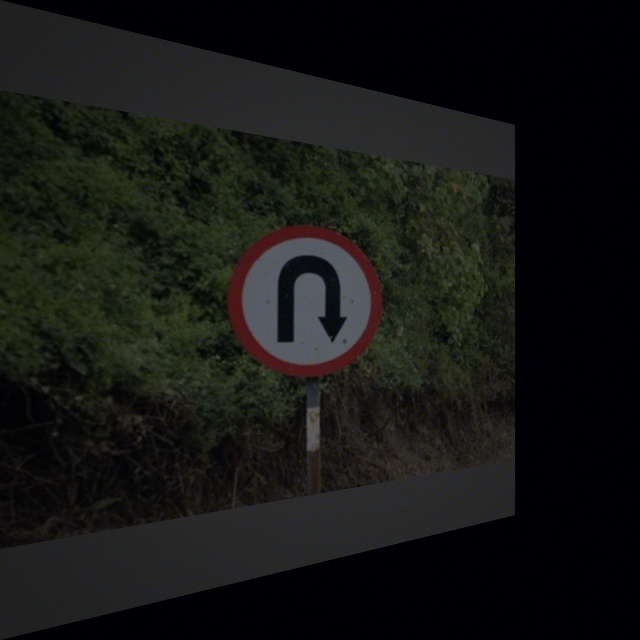U_Turn_Ahead: (228, 221, 386, 376)
